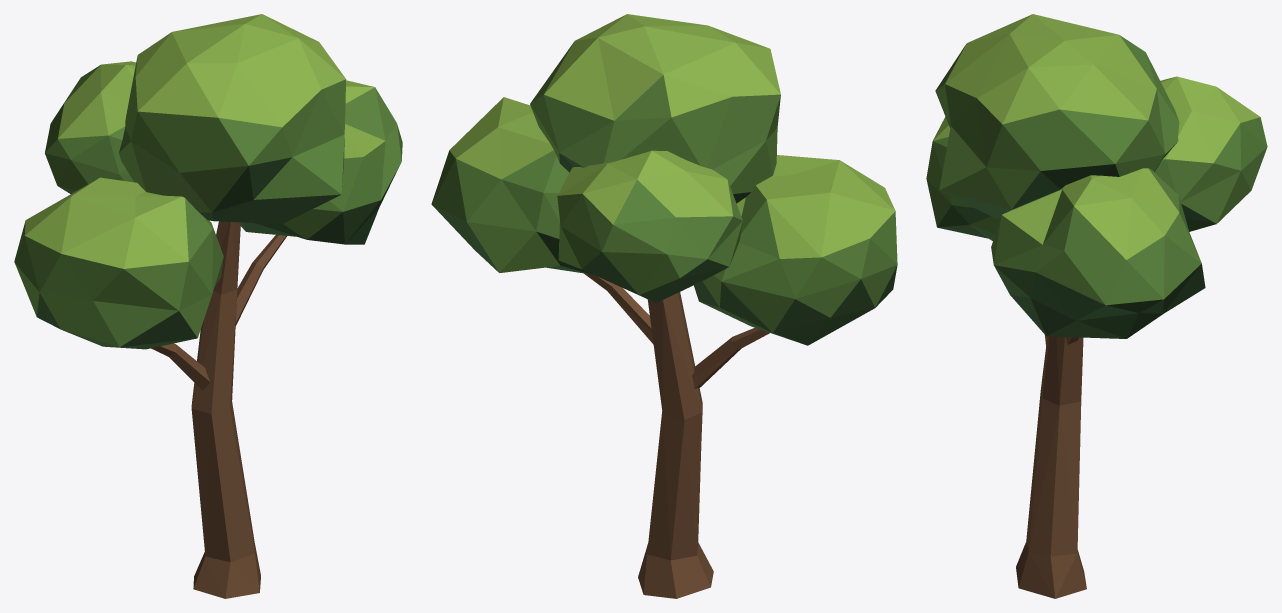
The model's file is SM_Tree_Broad_C.fbx.
3 renders of one model, left to right at view 1: azimuth 30°, elevation 25°; view 2: azimuth 150°, elevation 25°; view 3: azimuth 270°, elevation 25°, orthographic.
Visible parts, largest first — view 1: SM_Tree_Broad_C; view 2: SM_Tree_Broad_C; view 3: SM_Tree_Broad_C.
Part boxes in pixels (x1,y1,x2,y2): SM_Tree_Broad_C: (14, 14, 402, 598); SM_Tree_Broad_C: (431, 14, 897, 598); SM_Tree_Broad_C: (926, 14, 1267, 598).
Size of the model in its own units: 5.7 by 7.4 by 4.14.
